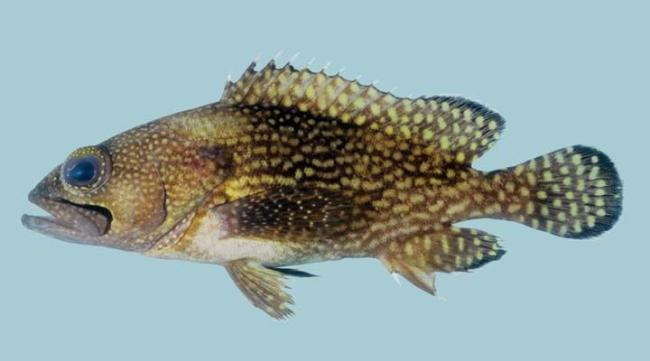fish: (21, 49, 623, 321)
